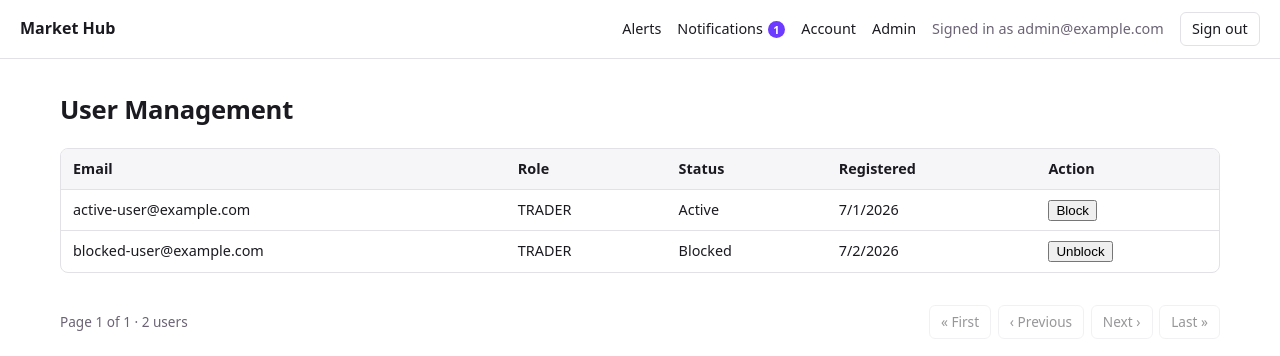
Test: AdminUsersPage › blocks an active user and flips the row to Blocked
What coordinates should you click on to do the following:
click the button "Block"
I would click on:
 (1073, 210)
Its box is [1048,200,1097,221].
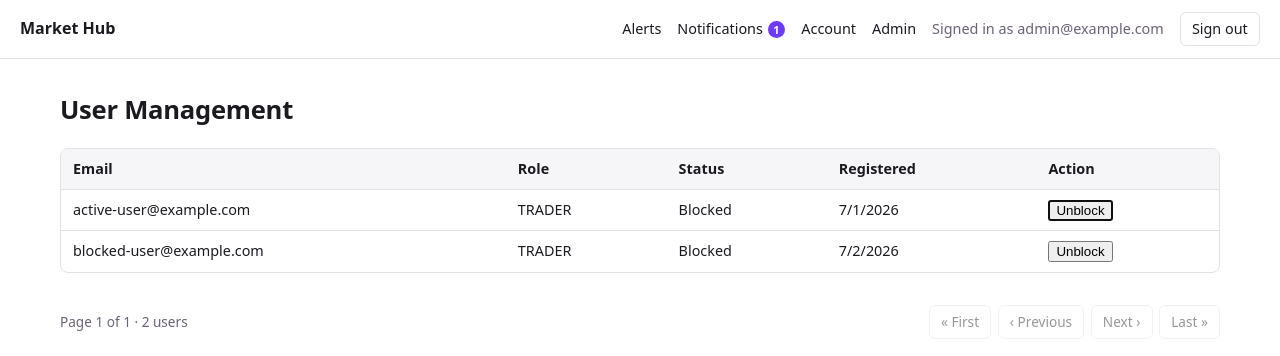
Now the text "Blocked" in the row of "active-user@example.com" is shown, box [679,200,732,219]
Now the button "Unblock" in the row of "active-user@example.com" is shown, box [1048,200,1113,221]
